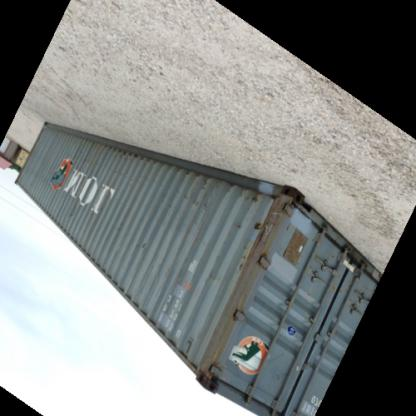Damage: (60, 142, 116, 252), (166, 164, 214, 188), (249, 211, 280, 245), (172, 190, 212, 216), (232, 188, 264, 206), (205, 268, 226, 290), (236, 251, 252, 278), (137, 236, 153, 256), (235, 220, 244, 235)
